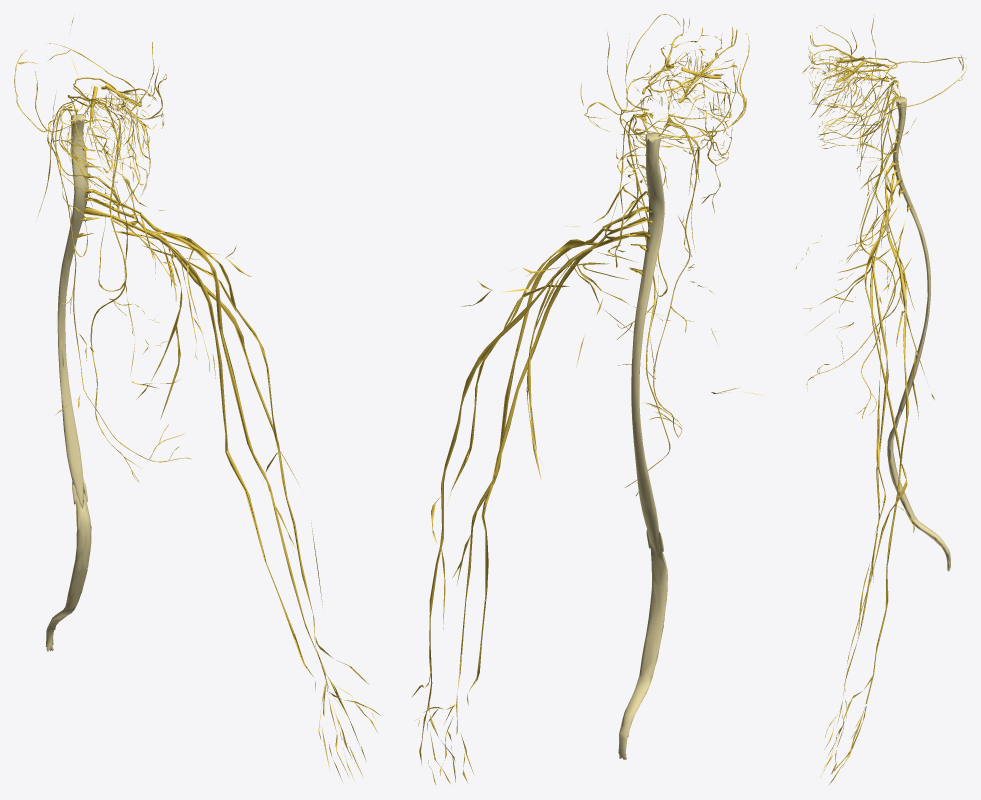
The model's file is nerves.glb.
3 renders of one model, left to right at view 1: azimuth 30°, elevation 25°; view 2: azimuth 150°, elevation 25°; view 3: azimuth 270°, elevation 25°, orthographic. The views are drawn at different scales.
Parts seen in each view (by area): view 1: nerves, spinal-cord; view 2: nerves, spinal-cord; view 3: nerves, spinal-cord.
Part boxes in pixels (<box>): nerves: <box>14,17,380,782</box>; spinal-cord: <box>45,114,91,651</box>; nerves: <box>412,14,762,784</box>; spinal-cord: <box>618,133,667,759</box>; nerves: <box>795,15,966,784</box>; spinal-cord: <box>887,96,950,571</box>.
Bounding box in the file's own units: 0.3918 × 0.8831 × 0.2126.
